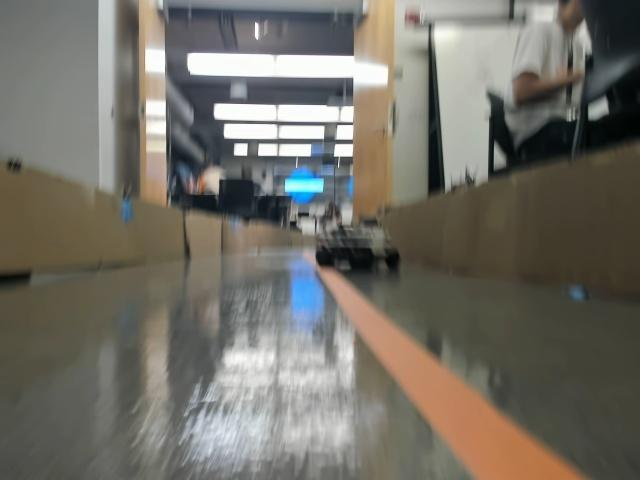Car: (316, 217, 399, 271)
